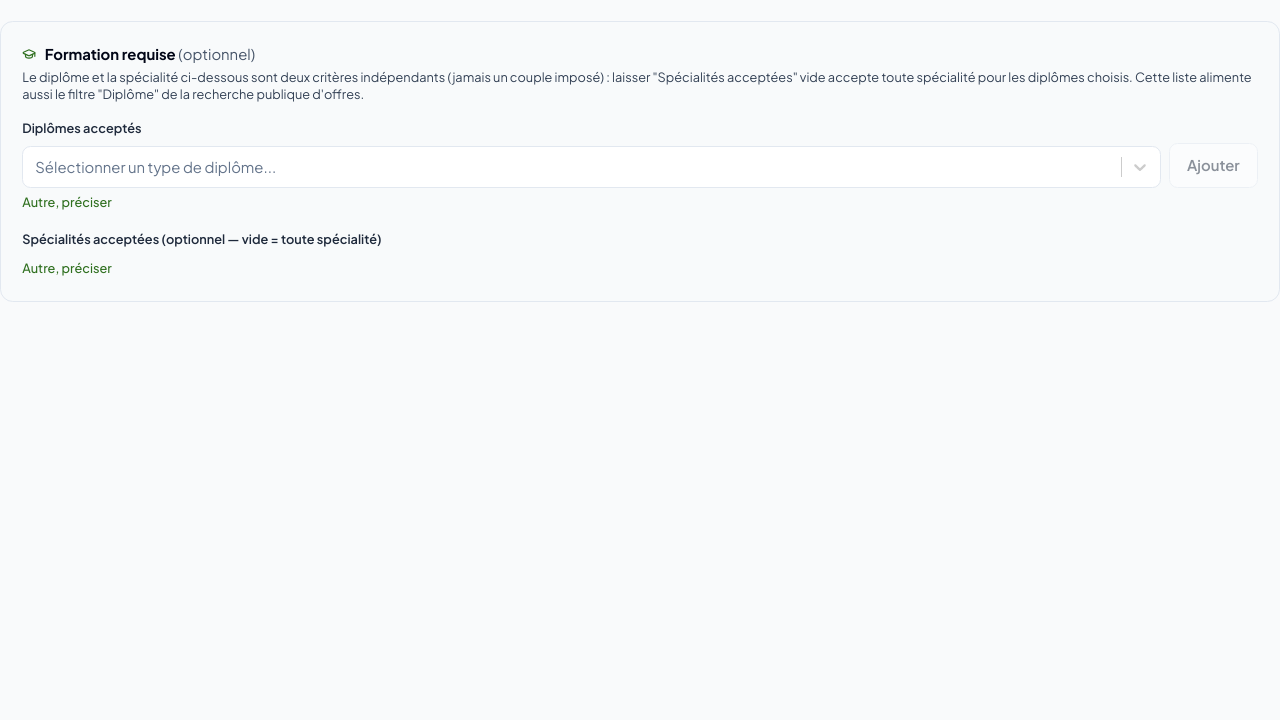
Test: 🎓 <BlocFormationRequise /> — demander un diplôme ou une spécialité absent de la liste › 🟢 Demande d'un type de diplôme manquant
Click the button "Autre, préciser" below "Sélectionner un type de diplôme..." at (67, 203), box x1=22 y1=194 x2=112 y2=211
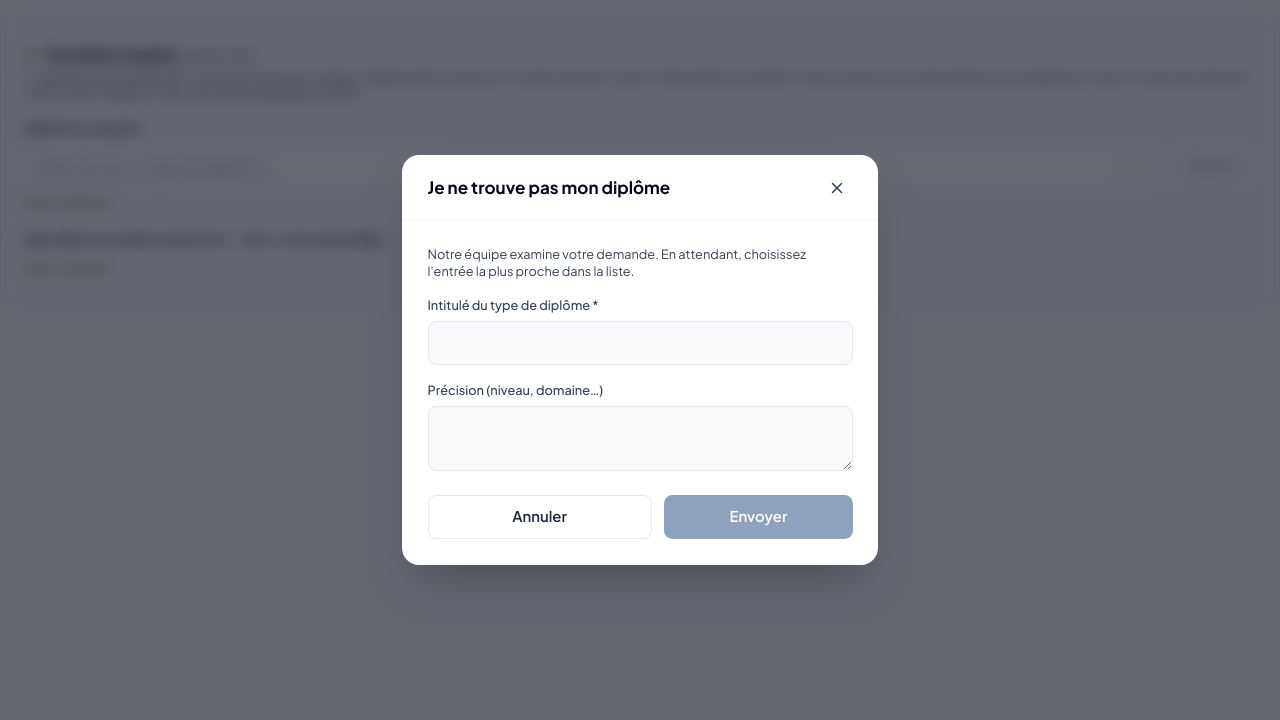
Expected: the dialog named "Demander l'ajout d'un type de diplôme" is shown
Type "Licence professionnelle" into the field labelled "Intitulé du type de diplôme *" at (640, 343), box x1=428 y1=321 x2=852 y2=365
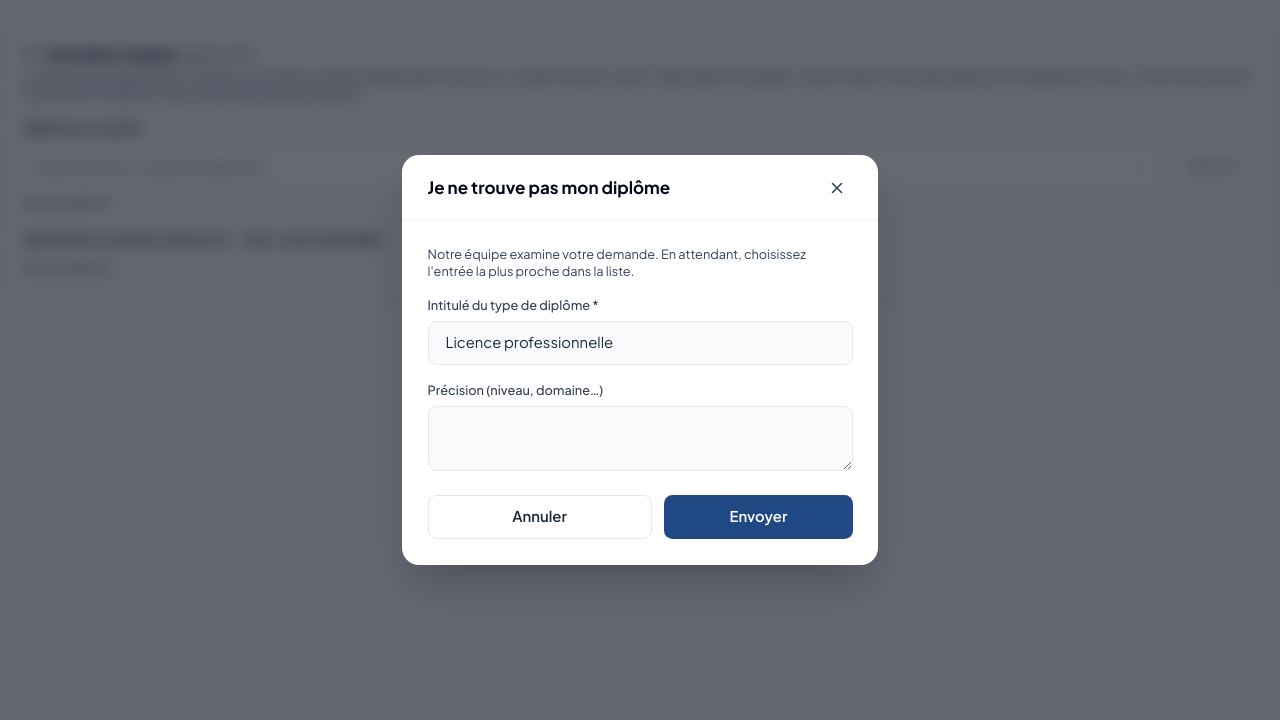
Click the button "Envoyer" at (758, 517), box x1=664 y1=495 x2=852 y2=539
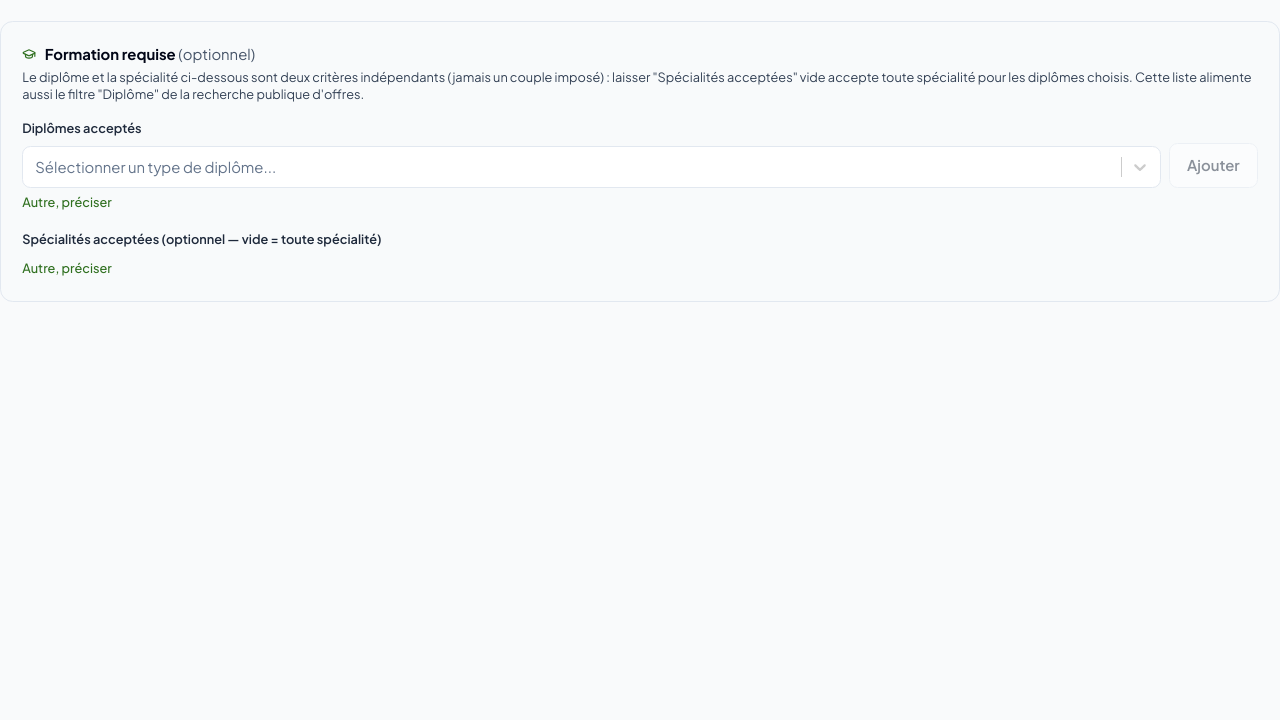
Expected: the dialog is gone
